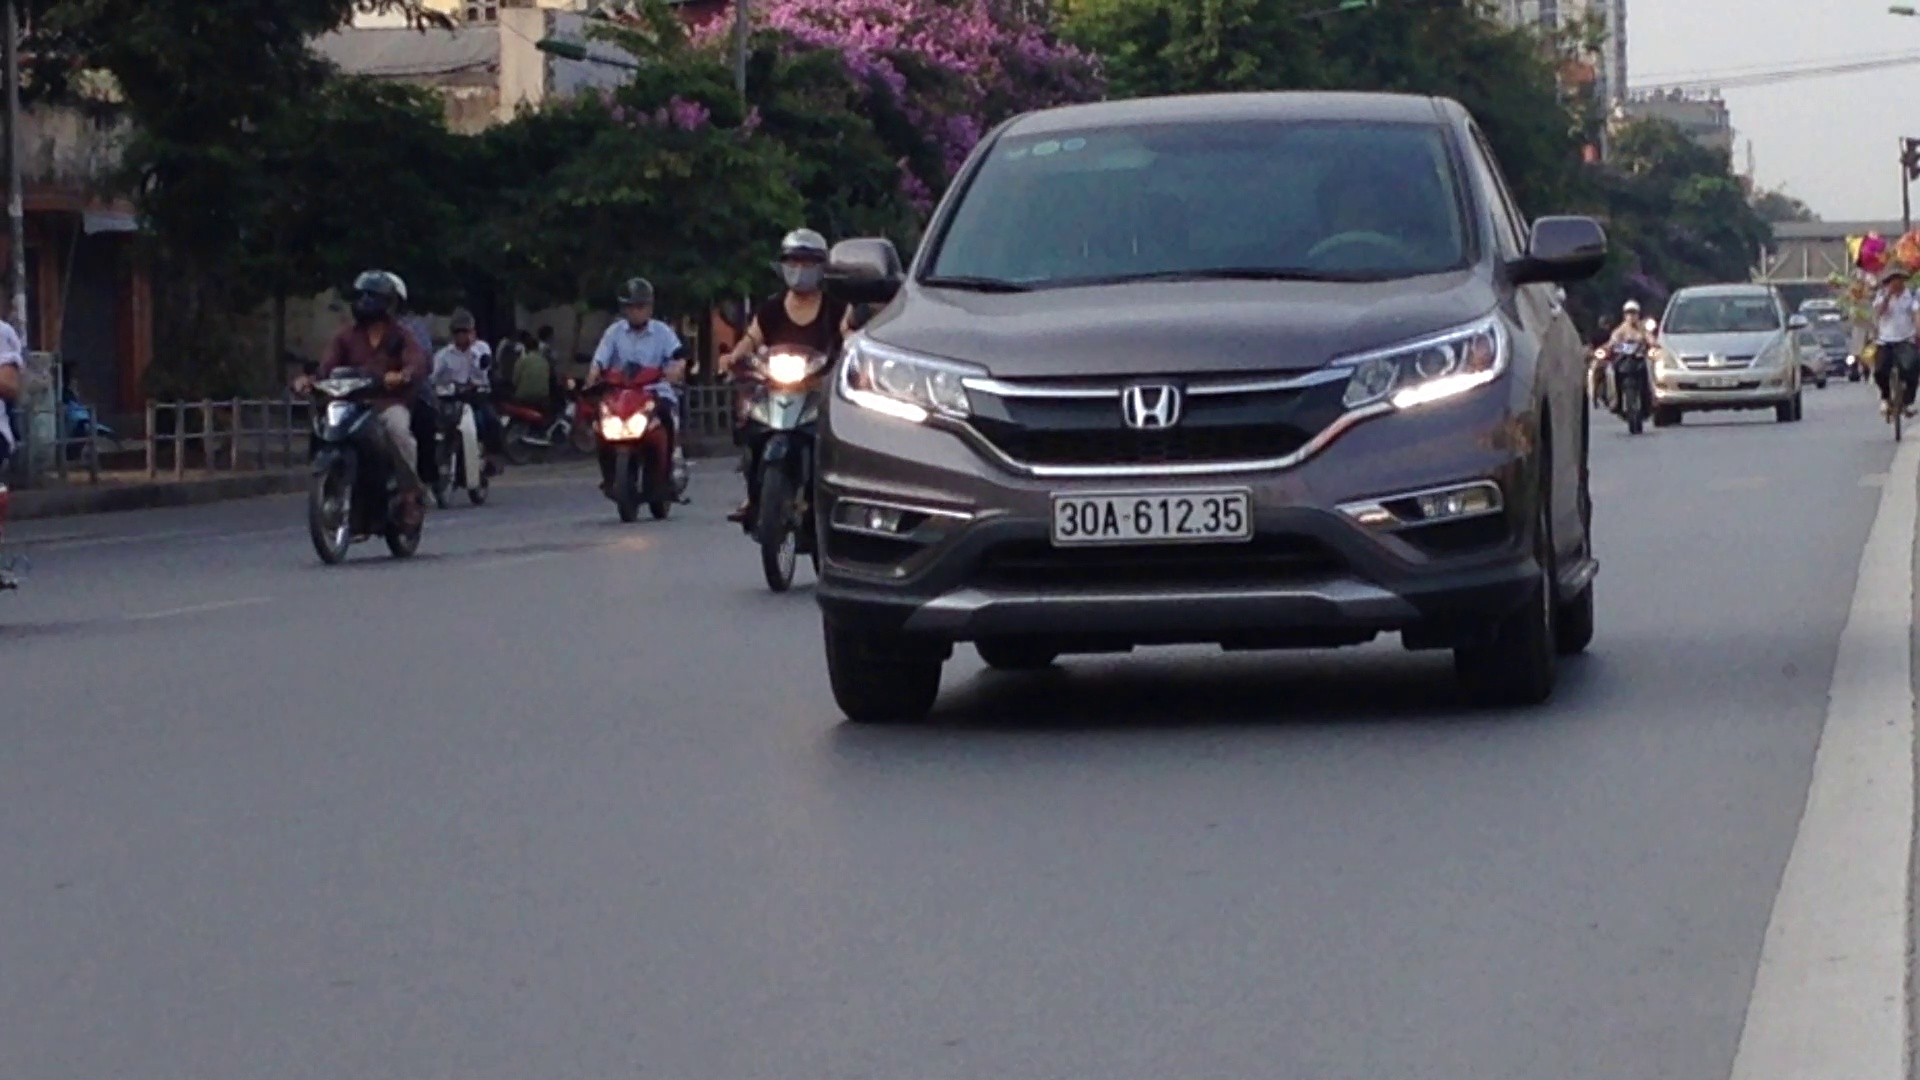vehicle-plate: (1046, 484, 1259, 544)
